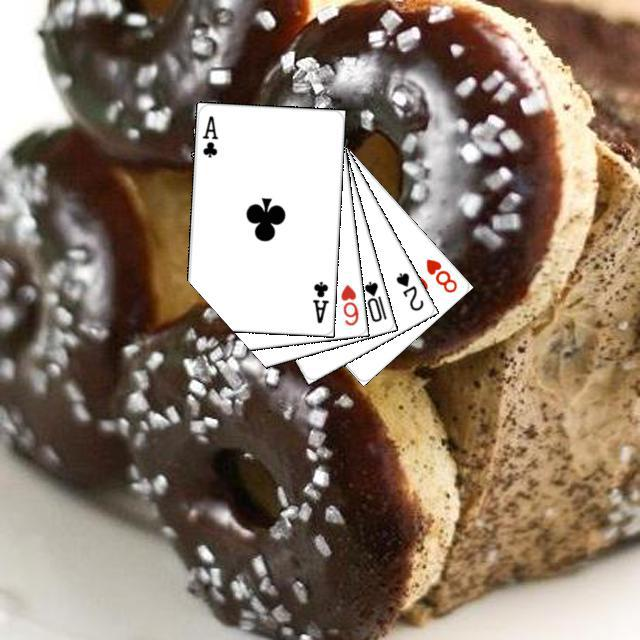10s: (359, 276, 388, 324)
2s: (391, 267, 425, 313)
6h: (336, 279, 360, 327)
8h: (421, 254, 459, 295)
Ac: (197, 111, 220, 159), (308, 276, 330, 325)
